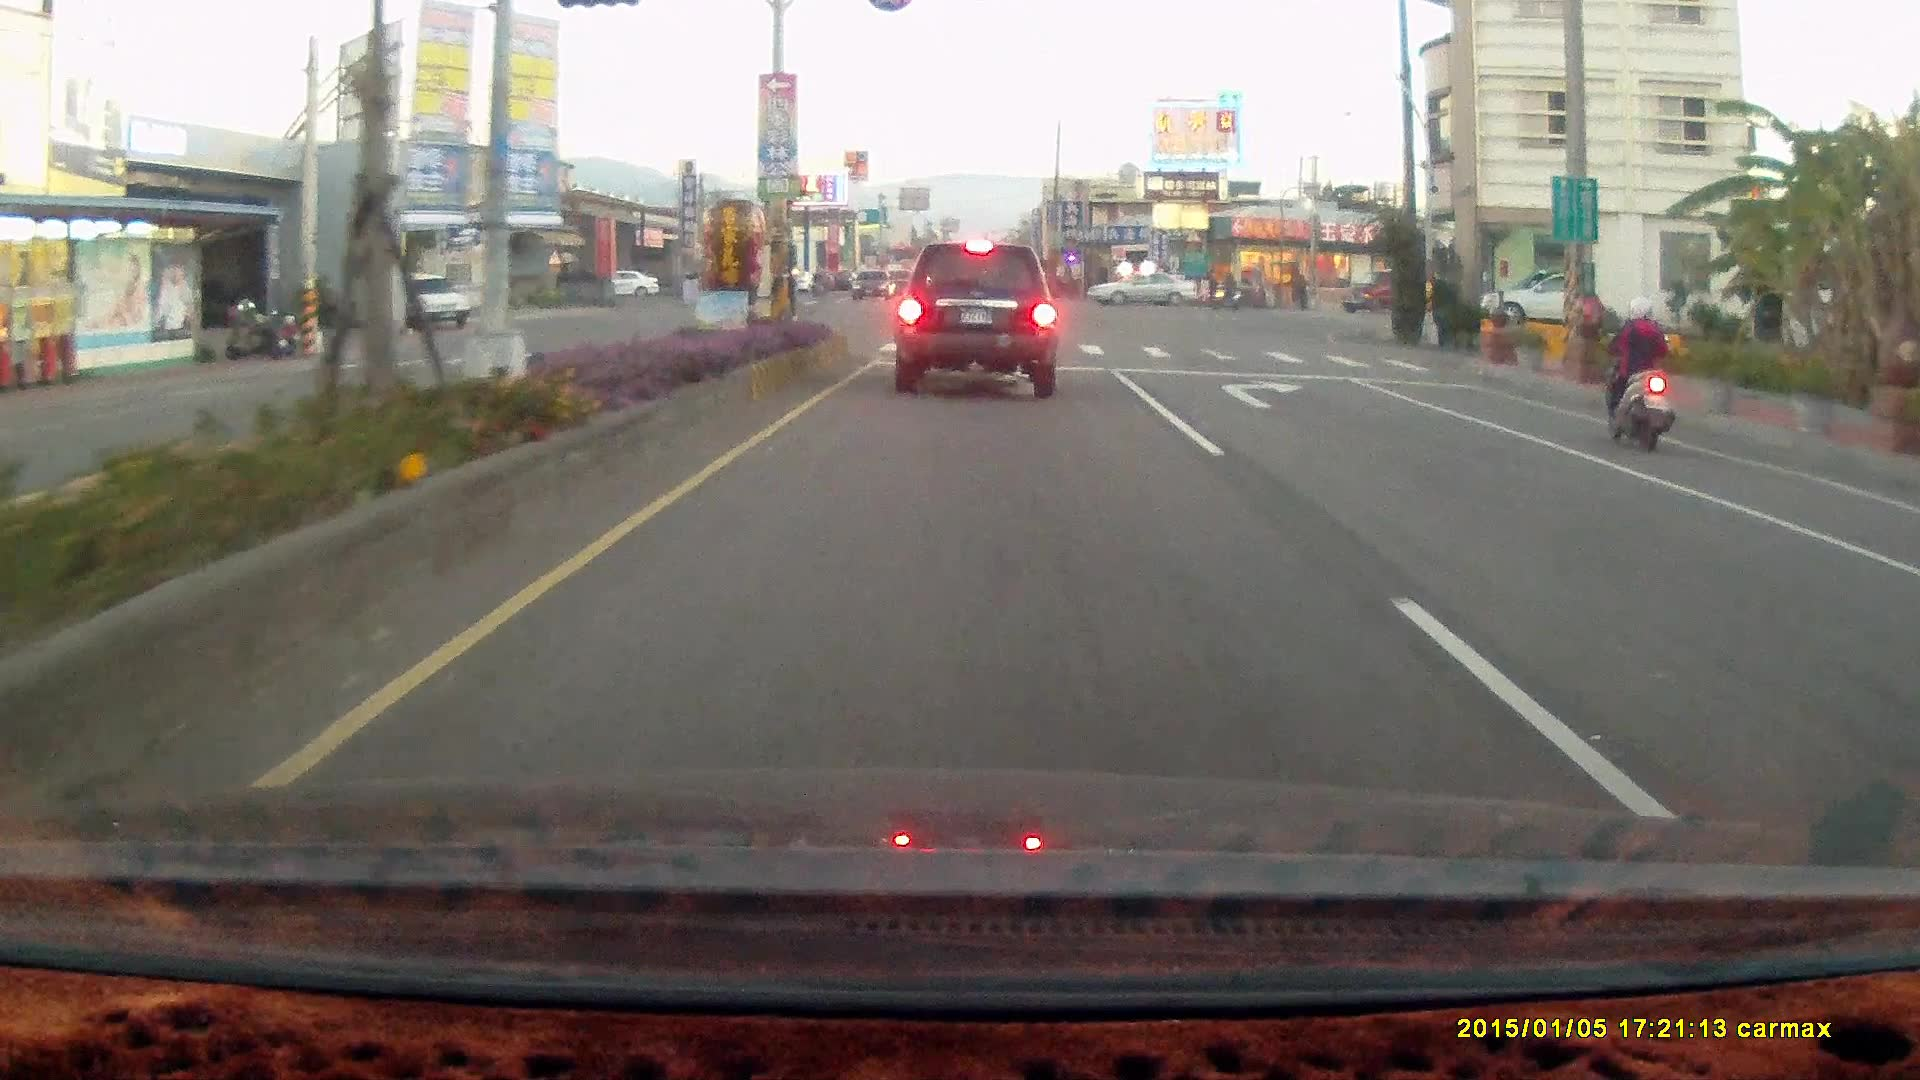rider: (1598, 298, 1677, 459), (1208, 269, 1246, 311)
vehicle: (893, 241, 1060, 395), (1479, 267, 1620, 331), (1896, 493, 1920, 836), (1482, 271, 1595, 336), (1883, 528, 1920, 690), (394, 273, 473, 331), (1085, 267, 1198, 306), (1338, 267, 1430, 312), (1089, 271, 1199, 310)
